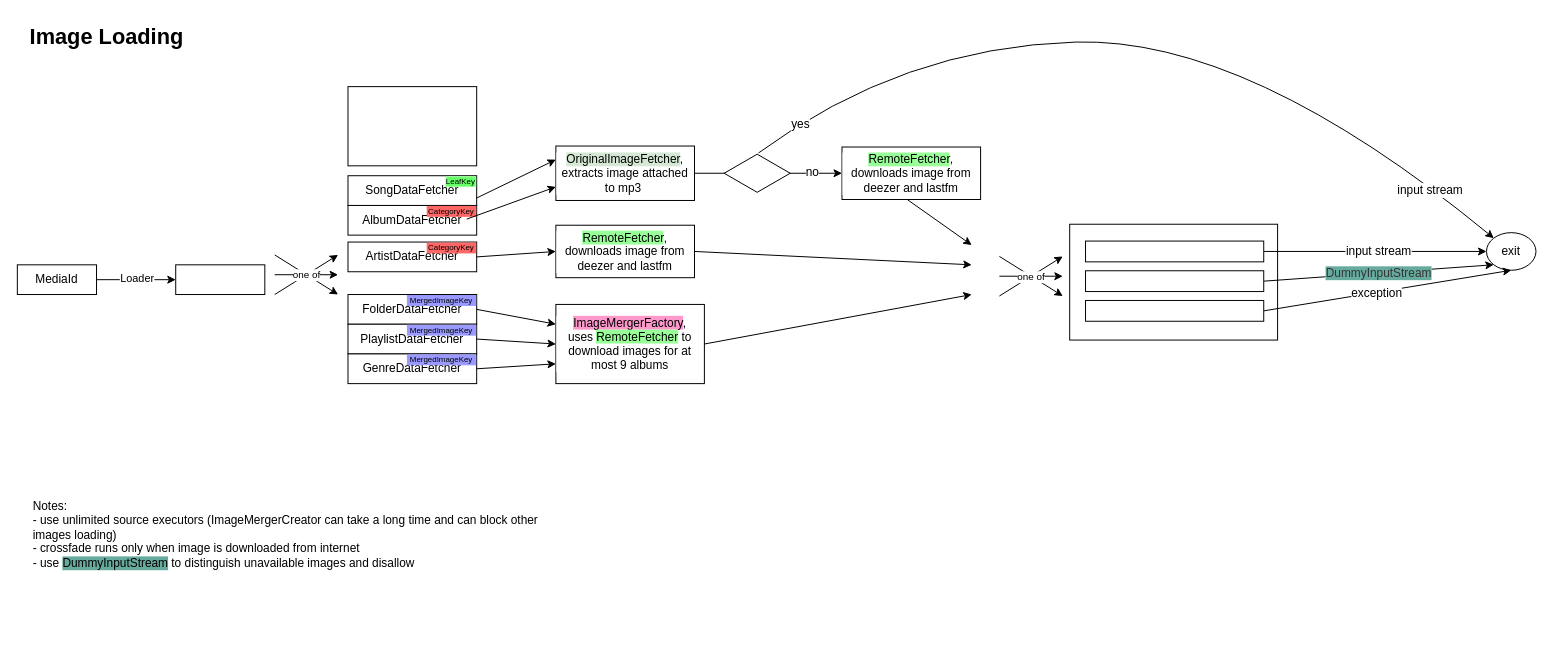
This 1553x657 diagram has some shape labels left out. The centre of each missing label's shape, as x and y in pixels:
"first try to get cached image from disk, if equals to DummyInputStream exit" belongs at [412,126].
"found" belongs at [756,172].
"ImageRetrieverResult.Error" belongs at [1174,310].
"ImageRetrieverResult.NotFound" belongs at [1174,281].
"ImageRetrieverResult.Success" belongs at [1174,251].
"MediaIdLoader" belongs at [220,279].
